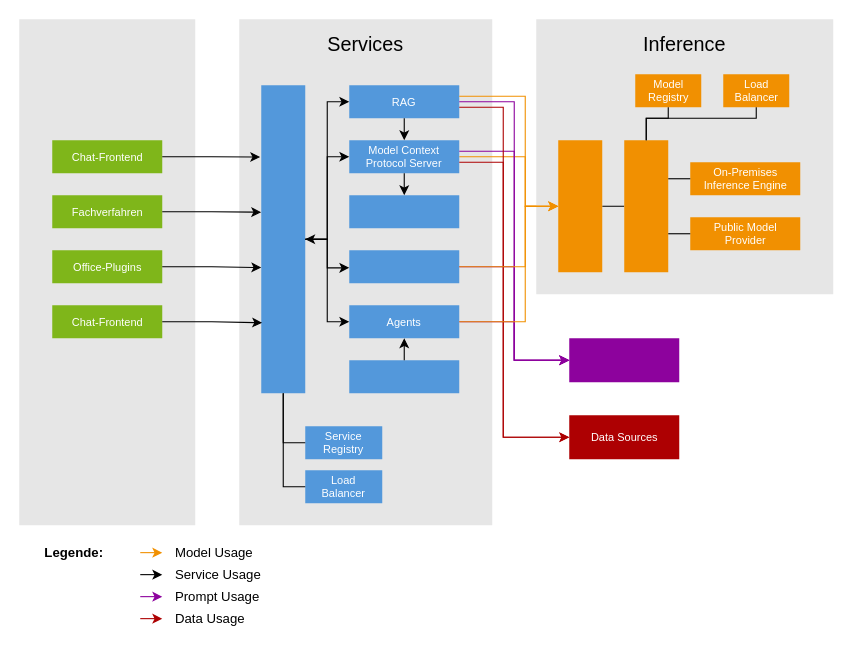
This 851x653 diagram has some shape labels left out. The box of each missing label's shape, as (x1, y1, x2, y2) in pixels:
API Gateway: (261, 85, 305, 393)
Frontends: (19, 19, 195, 525)
LLM Gateway: (624, 140, 668, 272)
OpenAI API: (558, 140, 602, 272)
Orchestration: (349, 360, 459, 393)
Prompt Store: (569, 338, 679, 382)
Task Based Services: (349, 250, 459, 283)
Tools: (349, 195, 459, 228)
